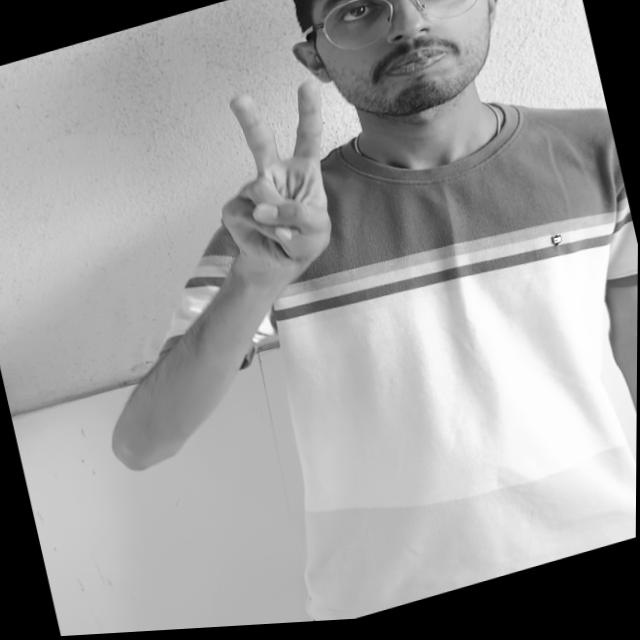Victory: (171, 45, 393, 311)
